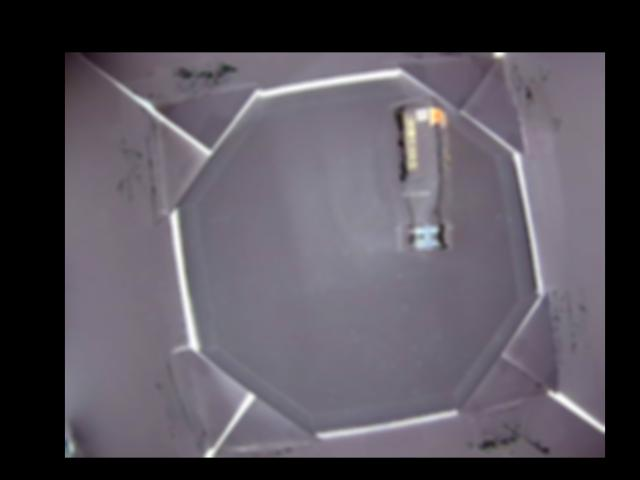Bottle: (389, 98, 454, 254)
